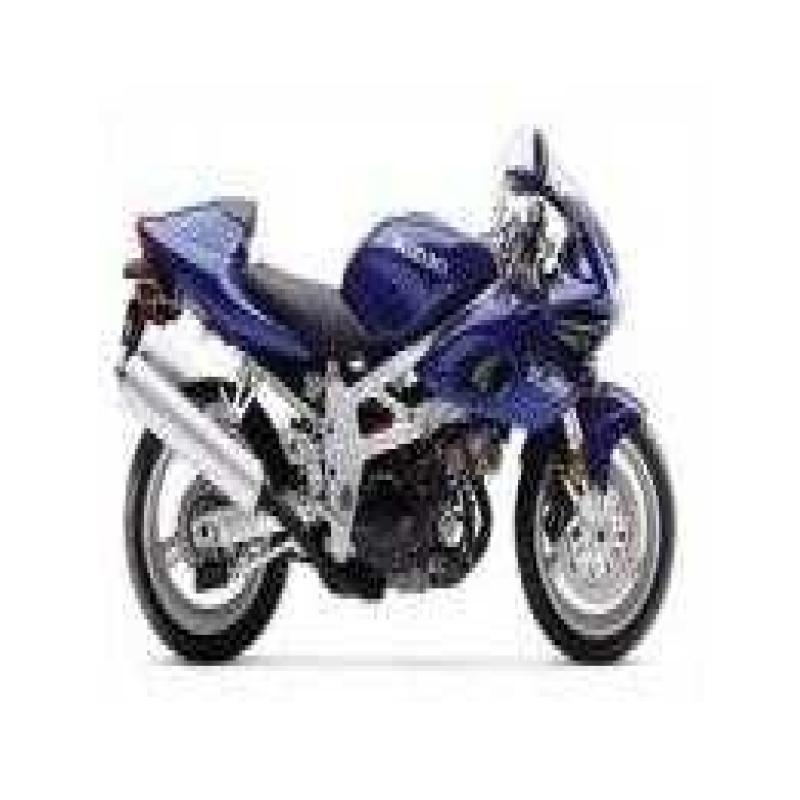bike: (97, 100, 706, 680)
